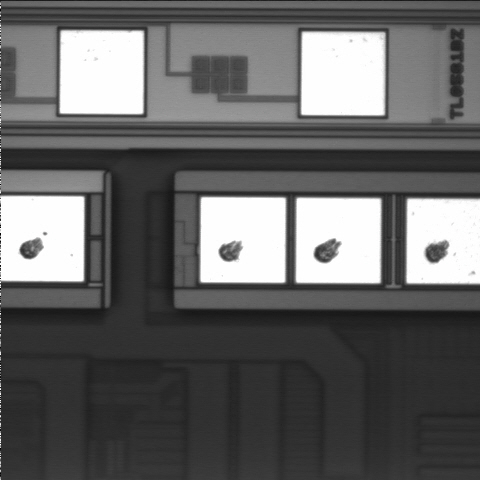pad: (200, 197, 286, 283), (296, 198, 381, 283), (60, 31, 144, 114), (301, 32, 385, 115)
